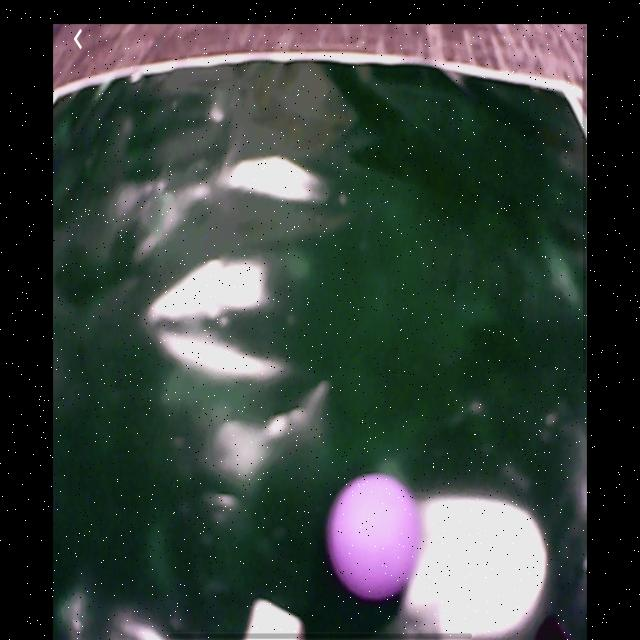ball: (328, 471, 423, 602)
